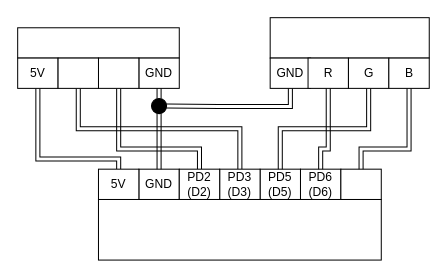
The diagram is 447 pixels wide and 278 high, and some of its shapes have lost their labels. Each missing label, with the centre of its shape:
"Arduino Nano" goes at [239,229].
"PB2 (D9)" goes at [360,183].
"S1" goes at [118,72].
"S2" goes at [77,72].
"Модуль RGB-светодиода" goes at [349,37].
"Модуль энкодера" goes at [98,42].
